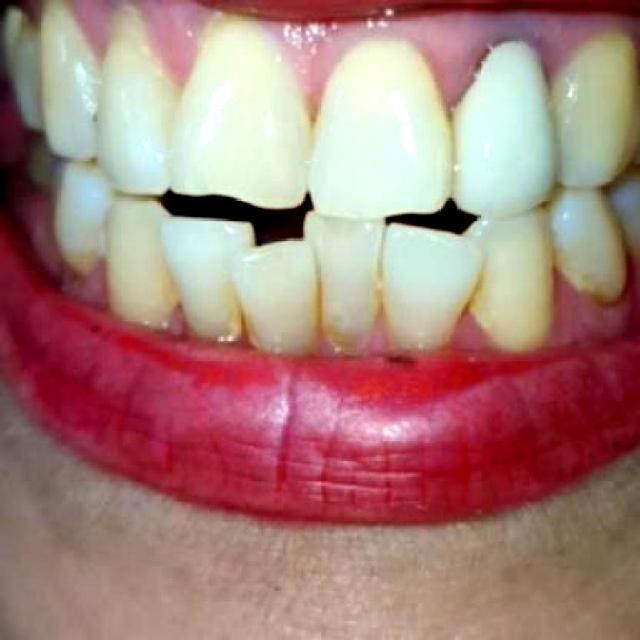Plaque: (450, 314, 492, 351), (225, 316, 257, 350), (88, 111, 99, 127)
